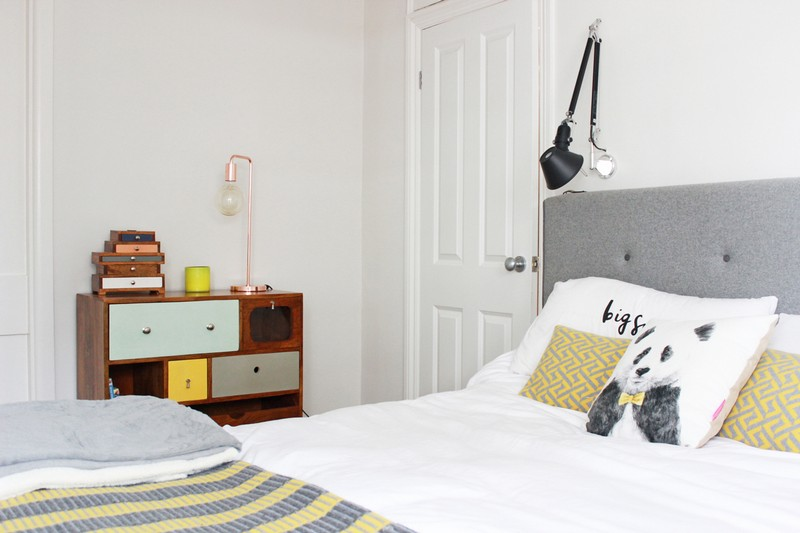bed: (328, 203, 798, 530)
door: (403, 10, 539, 400)
lamp: (212, 146, 277, 293)
table: (75, 290, 304, 423)
